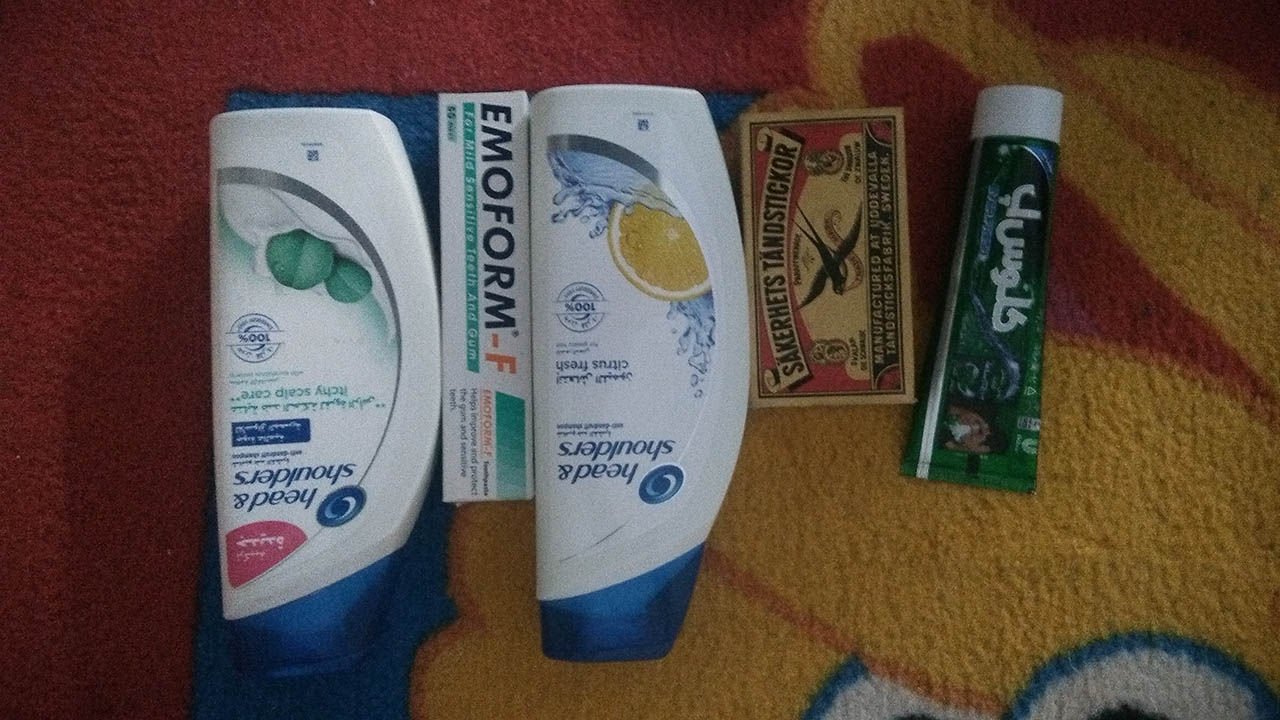Toothpaste-Closeup 3.04$: (917, 77, 1077, 486)
Toothpaste-F 1.5$: (424, 83, 545, 515)
match-sticks .90$: (737, 107, 914, 407)
shampoo-Lemon 3.5$: (528, 83, 754, 670)
shampoo-green 4.5$: (201, 101, 437, 683)
